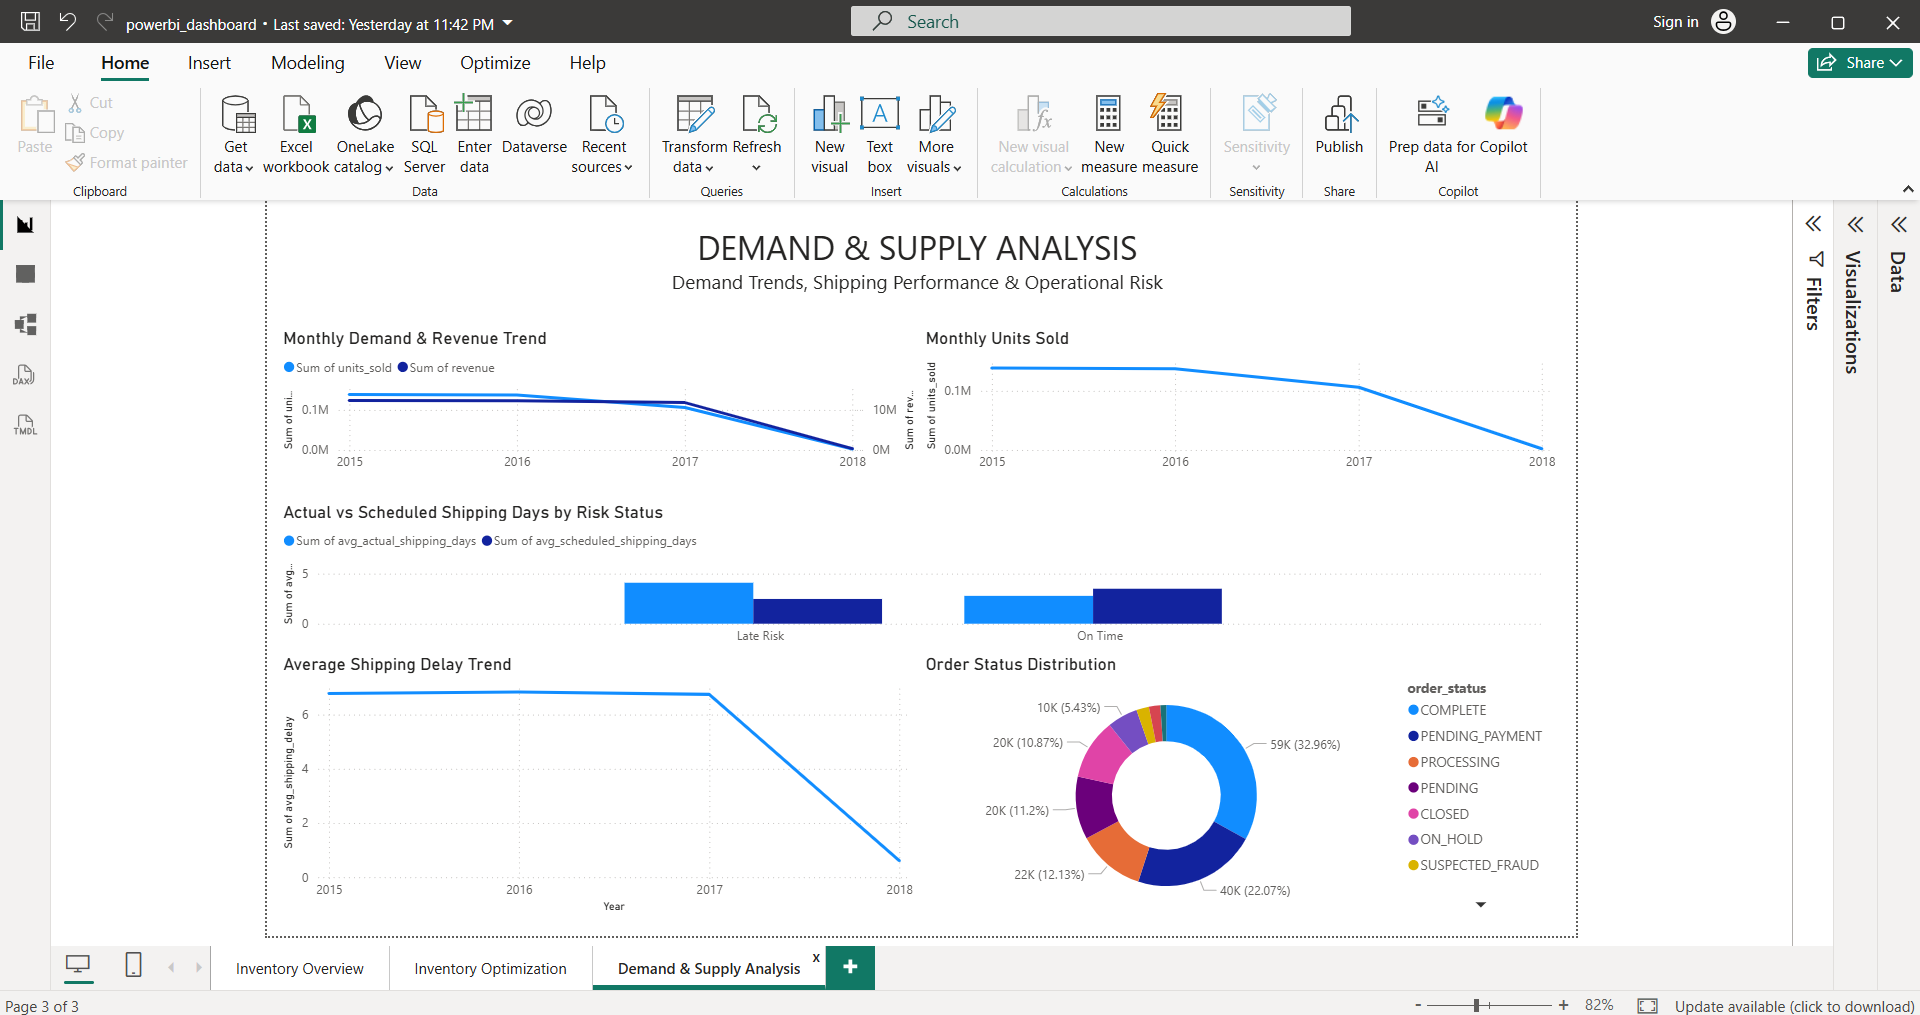

Layout of this report page (visuals, bound fields, positions):
{"tool":"powerbi","page":{"name":"Demand & Supply Analysis","canvas":[1280,720],"ordinal":2},"visuals":[{"type":"textbox","box":[10,20,1252.9,84.3],"z":0},{"type":"lineChart","title":"Monthly Demand & Revenue Trend","fields":{"Category":["monthly_demand.order_month.Variation.Date Hierarchy.Year","monthly_demand.order_month.Variation.Date Hierarchy.Quarter","monthly_demand.order_month.Variation.Date Hierarchy.Month","monthly_demand.order_month.Variation.Date Hierarchy.Day"],"Y":["Sum(monthly_demand.units_sold)"],"Y2":["Sum(monthly_demand.revenue)"]},"box":[11.4,124.3,628.6,150],"z":1000},{"type":"lineChart","title":"Monthly Units Sold","fields":{"Category":["monthly_demand.order_month.Variation.Date Hierarchy.Year","monthly_demand.order_month.Variation.Date Hierarchy.Quarter","monthly_demand.order_month.Variation.Date Hierarchy.Month","monthly_demand.order_month.Variation.Date Hierarchy.Day"],"Y":["Sum(monthly_demand.units_sold)"]},"box":[640,124.3,625.7,150],"z":2000},{"type":"clusteredColumnChart","title":"Actual vs Scheduled Shipping Days by Risk Status","fields":{"Category":["delivery_analysis.risk_status"],"Y":["Sum(delivery_analysis.avg_actual_shipping_days)","Sum(delivery_analysis.avg_scheduled_shipping_days)"]},"box":[11.4,294.3,1241.4,150],"z":3000},{"type":"lineChart","title":"Average Shipping Delay Trend","fields":{"Category":["monthly_shipping.order_month.Variation.Date Hierarchy.Year","monthly_shipping.order_month.Variation.Date Hierarchy.Quarter","monthly_shipping.order_month.Variation.Date Hierarchy.Month","monthly_shipping.order_month.Variation.Date Hierarchy.Day"],"Y":["Sum(monthly_shipping.avg_shipping_delay)"]},"box":[11.4,444.3,625.7,258.6],"z":4000},{"type":"donutChart","title":"Order Status Distribution","fields":{"Category":["order_status_analysis.order_status"],"Y":["Sum(order_status_analysis.total_orders)"]},"box":[640,444.3,622.9,258.6],"z":4001}]}

Visuals, with their boxes on the page's 1280x720 design canvas (x1, y1, x2, y2). These are canvas units, not pixel positions in the 1920x1015 screenshot, which may show the page scaled, cropped or inside an application window:
textbox: crop(10, 20, 1263, 104)
"Monthly Demand & Revenue Trend" lineChart: crop(11, 124, 640, 274)
"Monthly Units Sold" lineChart: crop(640, 124, 1266, 274)
"Actual vs Scheduled Shipping Days by Risk Status" clusteredColumnChart: crop(11, 294, 1253, 444)
"Average Shipping Delay Trend" lineChart: crop(11, 444, 637, 703)
"Order Status Distribution" donutChart: crop(640, 444, 1263, 703)
